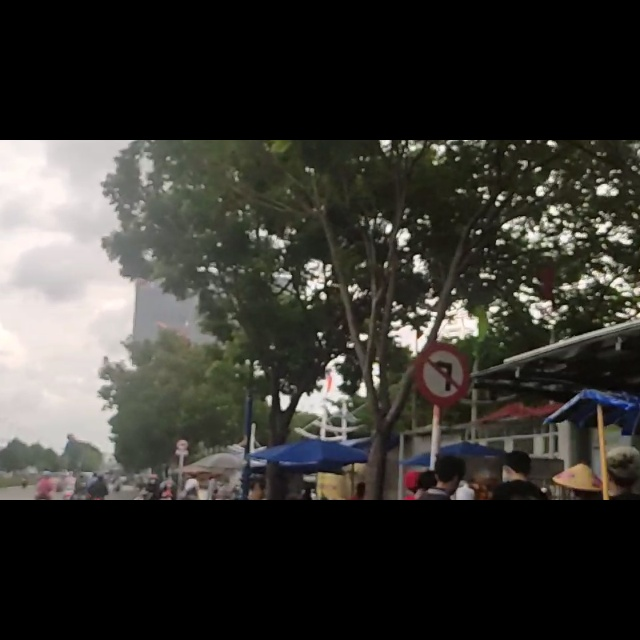bien_hieu_lenh: (415, 357, 468, 469)
